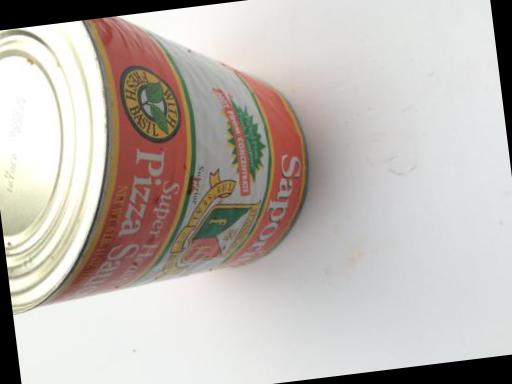metal: (0, 0, 345, 317)
